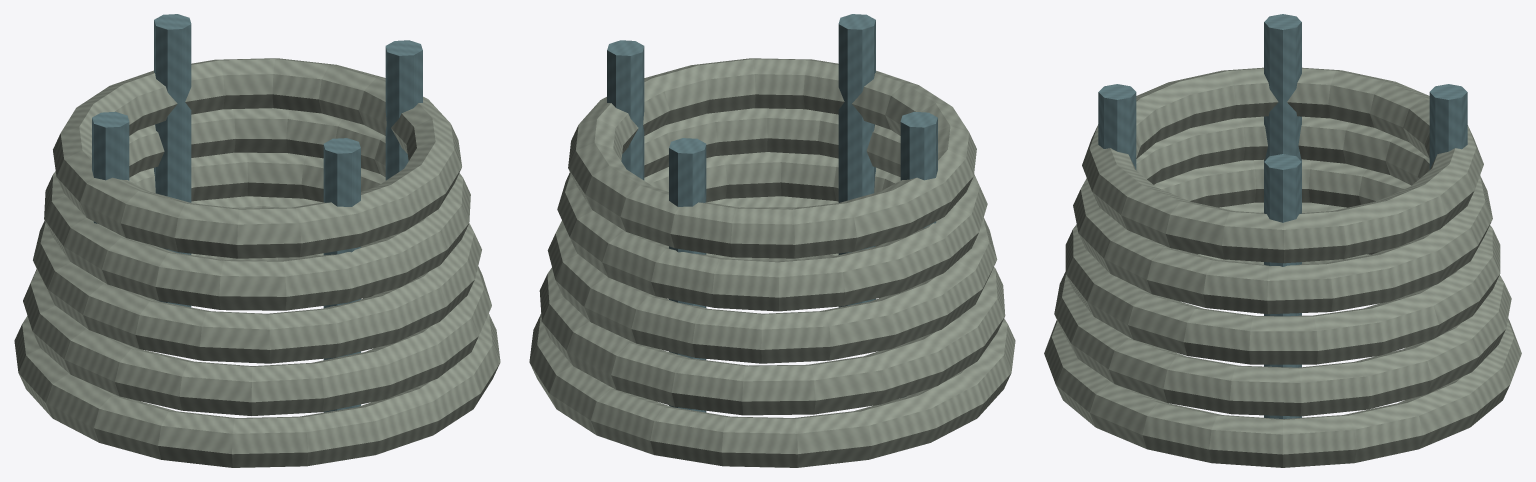
Rendered from underworld-refined-pale-cord.glb.
The picture shows the model from 3 angles, left to right: view 1: azimuth 30°, elevation 25°; view 2: azimuth 150°, elevation 25°; view 3: azimuth 270°, elevation 25°; orthographic projection. The views are drawn at different scales.
Parts seen in each view (by area): view 1: coil-4, coil-3, coil-2, coil-0, coil-1, tie-1, tie-0, tie-3, tie-2; view 2: coil-4, coil-3, coil-2, coil-0, coil-1, tie-3, tie-0, tie-1, tie-2; view 3: coil-4, coil-3, coil-2, coil-0, coil-1, tie-2, tie-0, tie-3, tie-1.
Boxes of the visible parts, x1,y1,x2,y2 form: coil-4: [53, 58, 461, 258]; coil-3: [44, 108, 470, 310]; coil-2: [33, 152, 481, 363]; coil-0: [14, 253, 500, 467]; coil-1: [23, 196, 491, 415]; tie-1: [154, 14, 191, 307]; tie-0: [385, 40, 422, 180]; tie-3: [323, 138, 360, 412]; tie-2: [92, 111, 129, 223]; coil-4: [568, 58, 976, 258]; coil-3: [557, 108, 987, 311]; coil-2: [547, 152, 997, 363]; coil-0: [529, 253, 1015, 467]; coil-1: [539, 196, 1005, 415]; tie-3: [838, 14, 875, 307]; tie-0: [607, 40, 644, 180]; tie-1: [669, 138, 706, 412]; tie-2: [900, 111, 937, 397]; coil-4: [1082, 67, 1483, 263]; coil-3: [1073, 116, 1492, 314]; coil-2: [1065, 159, 1500, 364]; coil-0: [1044, 254, 1521, 467]; coil-1: [1054, 202, 1511, 416]; tie-2: [1264, 14, 1301, 161]; tie-0: [1264, 154, 1301, 418]; tie-3: [1098, 84, 1136, 170]; tie-1: [1429, 84, 1467, 169].
Bounding box in the file's own units: 0.202 × 0.133 × 0.202.
2 materials, 2 textured.
